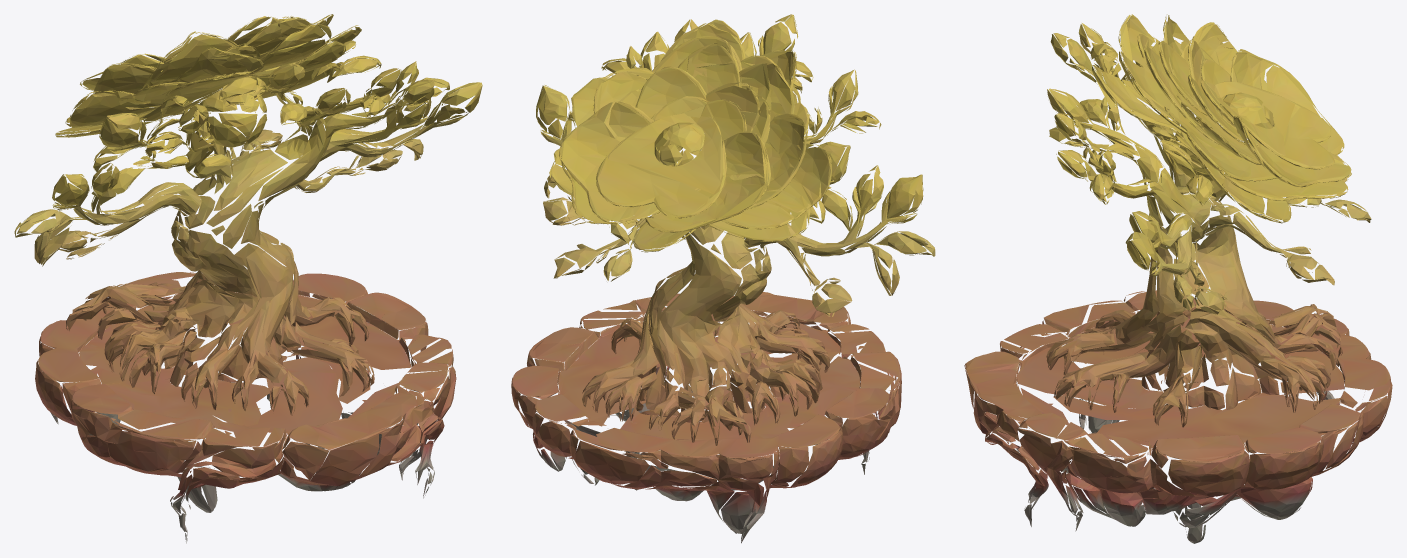
File: building_shanmen.glb
3 views of the same model, side by side, from view 1: azimuth 30°, elevation 25°; view 2: azimuth 150°, elevation 25°; view 3: azimuth 270°, elevation 25° (orthographic). The views are drawn at different scales.
Visible parts, largest first — view 1: world; view 2: world; view 3: world.
Part boxes in pixels (<box>): world: <box>14,14,482,543</box>; world: <box>511,14,935,543</box>; world: <box>964,14,1392,543</box>.
Bounding box in the file's own units: 0.9987 × 1.04 × 0.8606.
